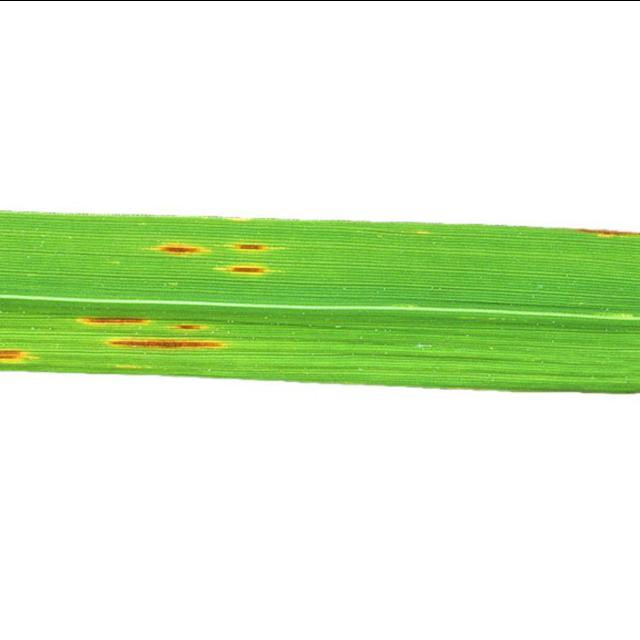Narrow brown: (0, 182, 640, 420)
